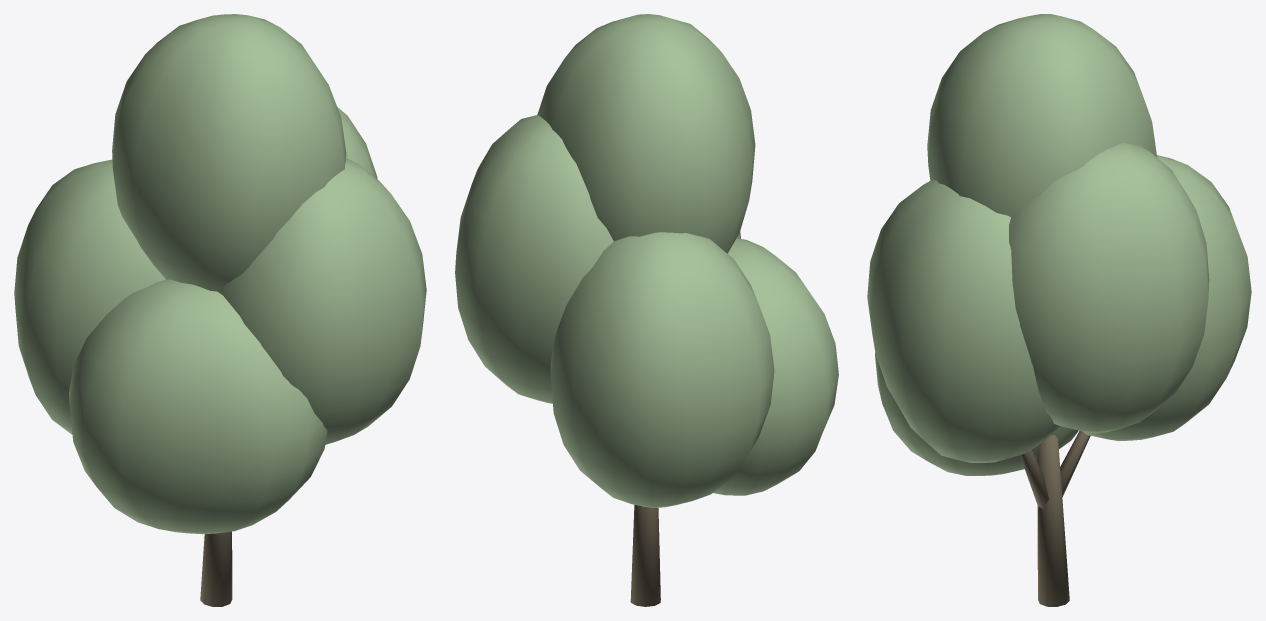
File: SM_MPR_Env_Tree_1.fbx
3 views of the same model, side by side, from view 1: azimuth 30°, elevation 25°; view 2: azimuth 150°, elevation 25°; view 3: azimuth 270°, elevation 25° (orthographic).
Visible parts, largest first — view 1: SM_MPR_Env_Tree_1; view 2: SM_MPR_Env_Tree_1; view 3: SM_MPR_Env_Tree_1.
Part boxes in pixels (x1,y1,x2,y2): SM_MPR_Env_Tree_1: [14, 14, 426, 606]; SM_MPR_Env_Tree_1: [455, 14, 838, 606]; SM_MPR_Env_Tree_1: [867, 14, 1251, 606].
Size of the model in its own units: 628 by 647 by 1081.
